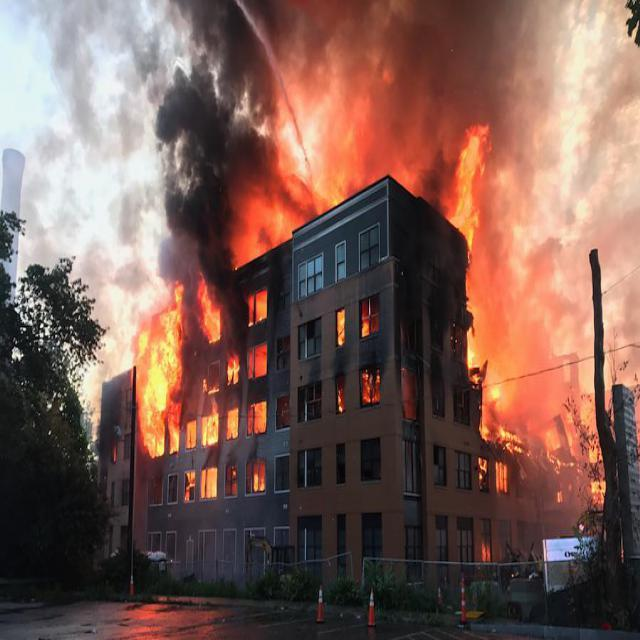Fire: (132, 102, 591, 564)
Smoke: (39, 6, 242, 312), (246, 1, 640, 117)
